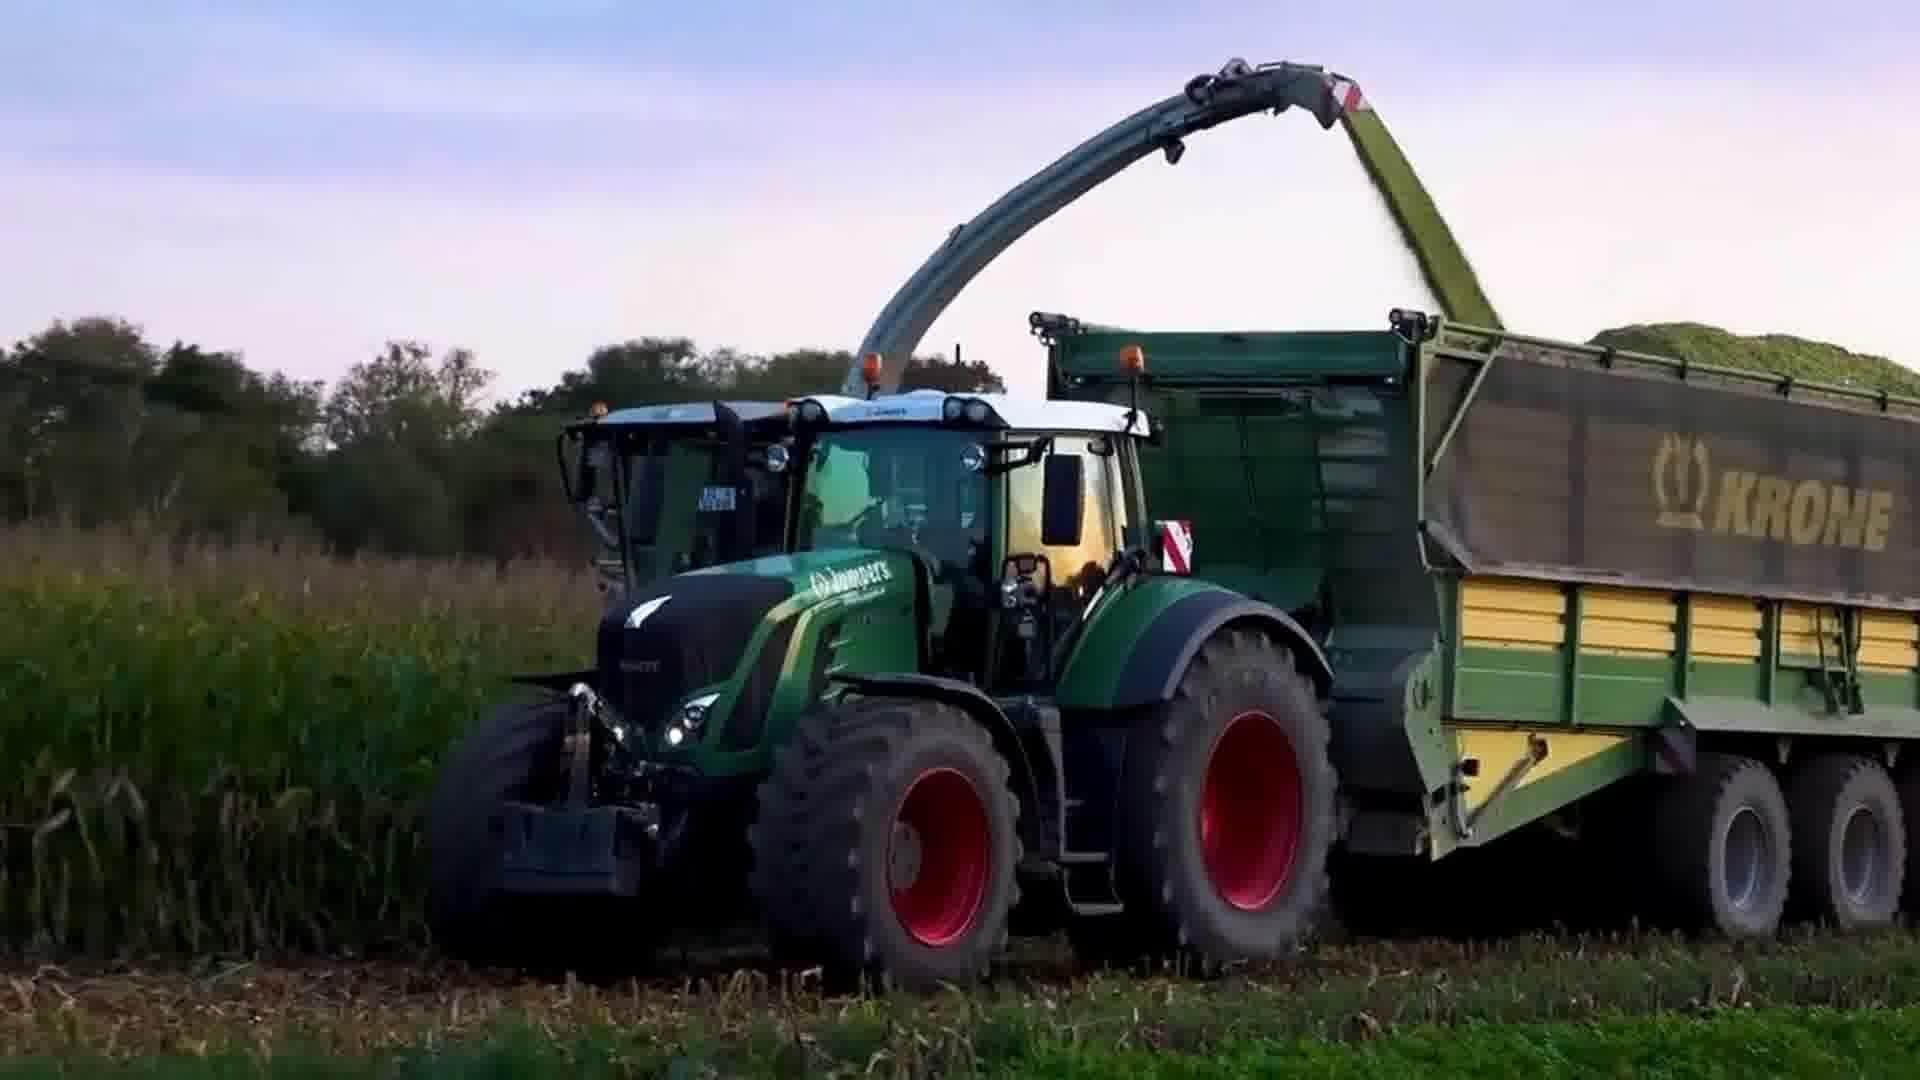combine harvester: (551, 47, 1374, 641)
tractor: (414, 343, 1367, 1004)
trailer: (1027, 294, 1919, 956)
